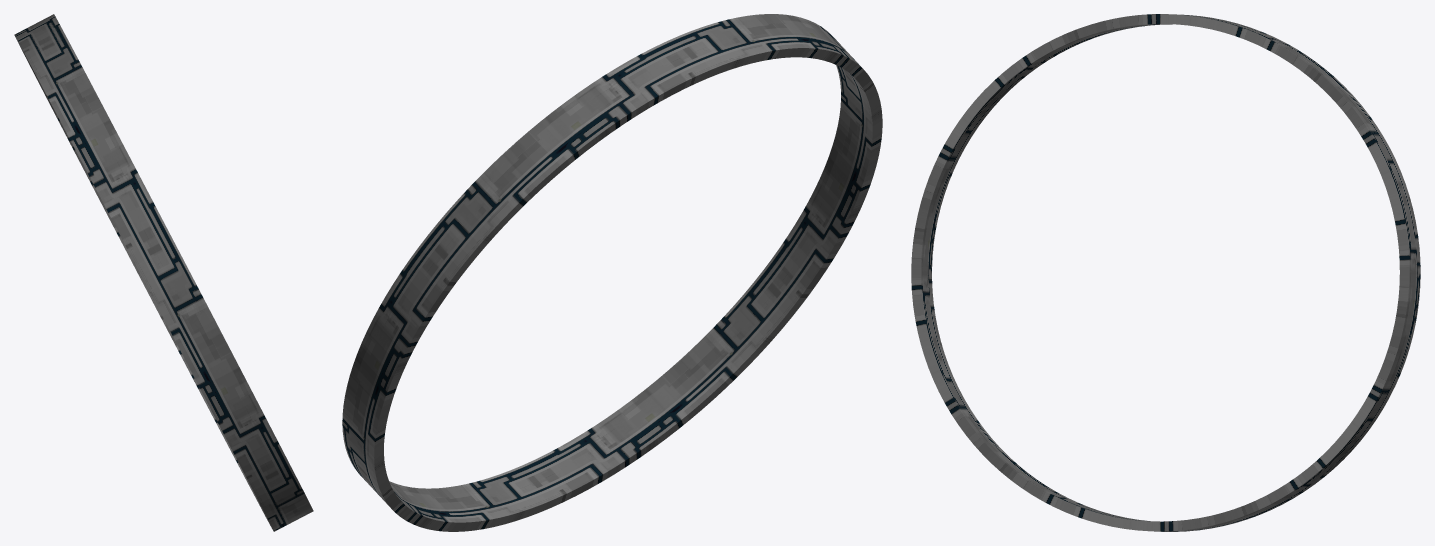
The model's file is halo.glb.
3 renders of one model, left to right at view 1: azimuth 30°, elevation 25°; view 2: azimuth 150°, elevation 25°; view 3: azimuth 270°, elevation 25°, orthographic. The views are drawn at different scales.
Visible parts, largest first — view 1: halo; view 2: halo; view 3: halo.
Part boxes in pixels (x1,y1,x2,y2): halo: (14, 14, 313, 531); halo: (342, 14, 882, 531); halo: (911, 14, 1420, 531).
Size of the model in its own units: 51.63 by 85.7 by 89.56.
1 material, 1 textured.
